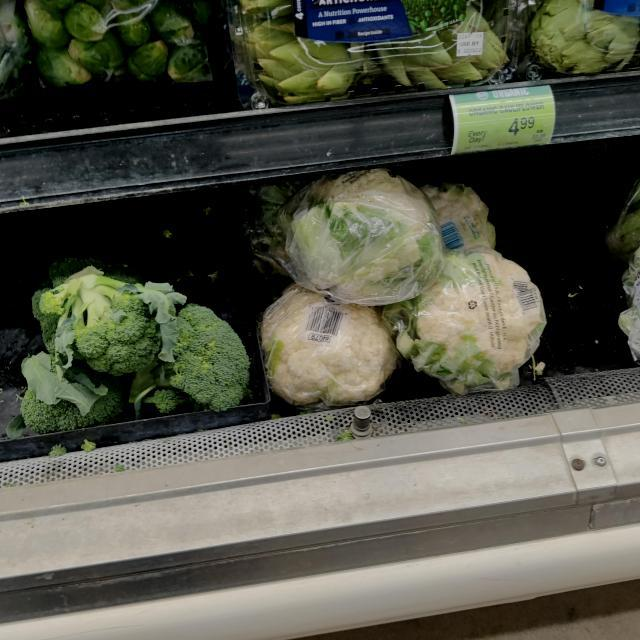Broccoli: (23, 258, 160, 431), (130, 301, 258, 410)
Brussel Sprouts: (30, 0, 218, 86)
Cauliflower: (395, 248, 551, 396), (274, 168, 445, 300), (259, 282, 396, 408)
